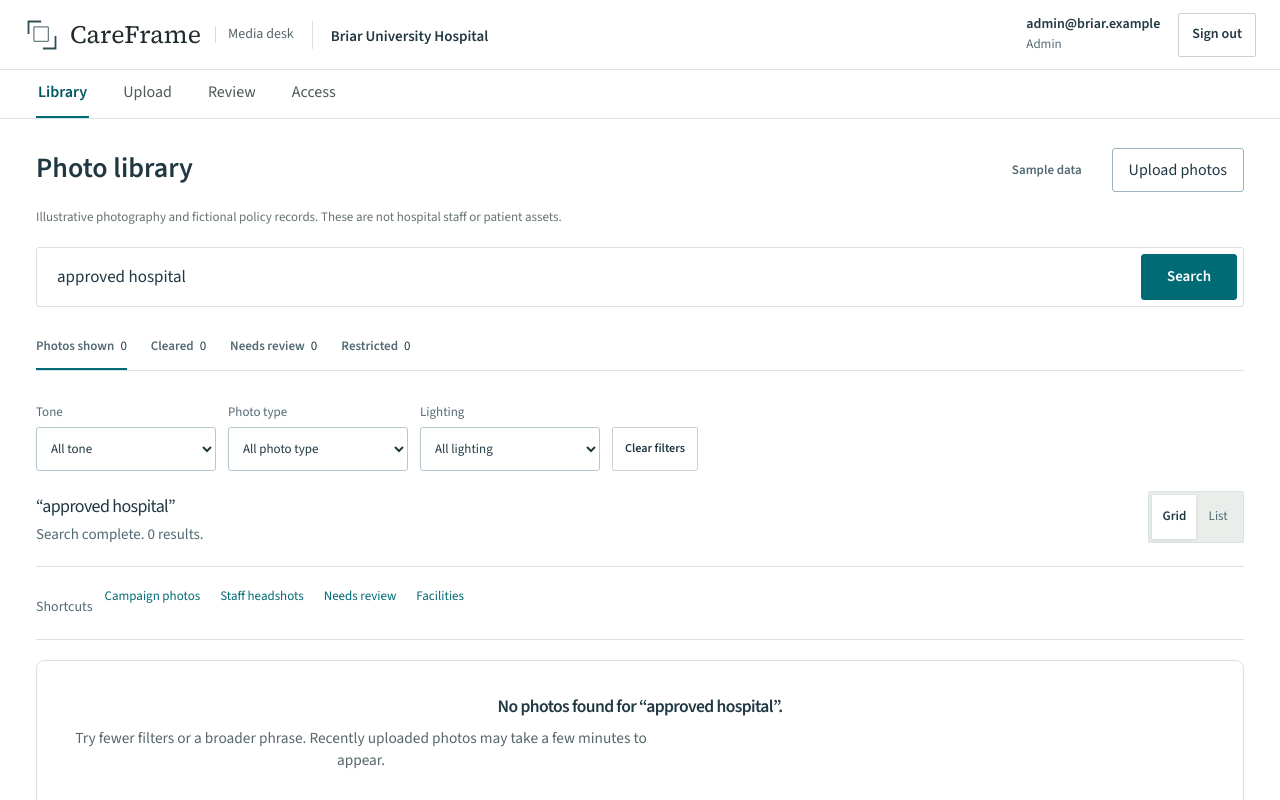
Test: App workspace access › ignores a slower response after a newer search completes
Click the button with class "request-chip" showing "Campaign photos": (152, 609) 104,587 -> 200,631
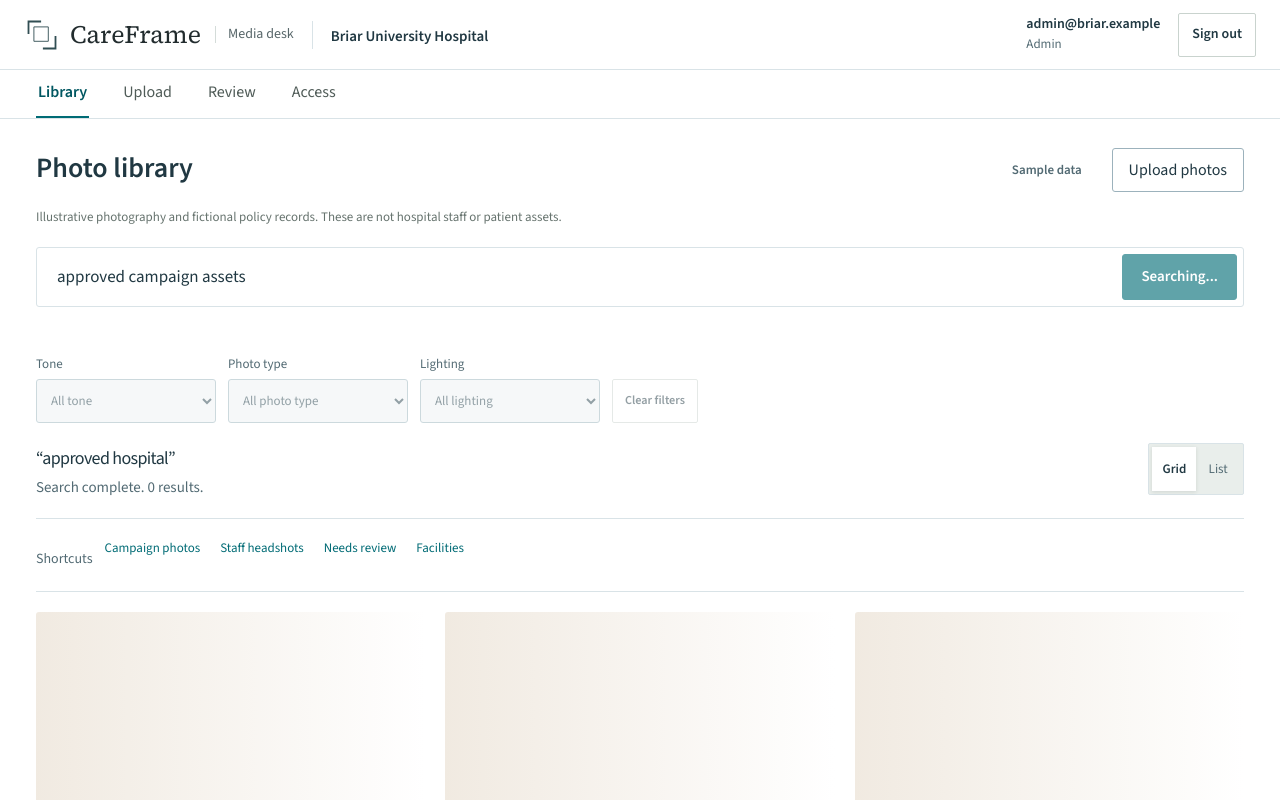
Click the button with class "request-chip" showing "Staff headshots": (262, 561) 220,539 -> 304,583
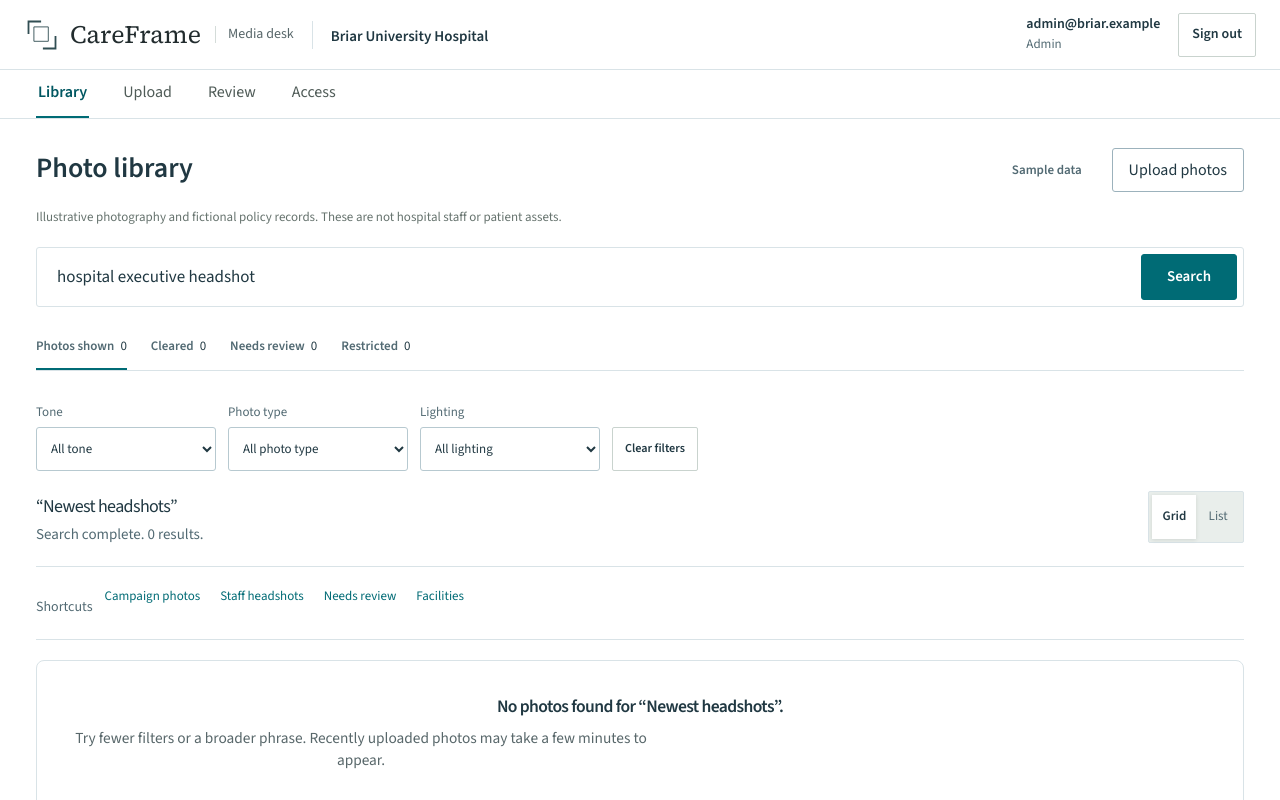
Expected: the heading "“Newest headshots”" is shown, 36,494 -> 177,519
